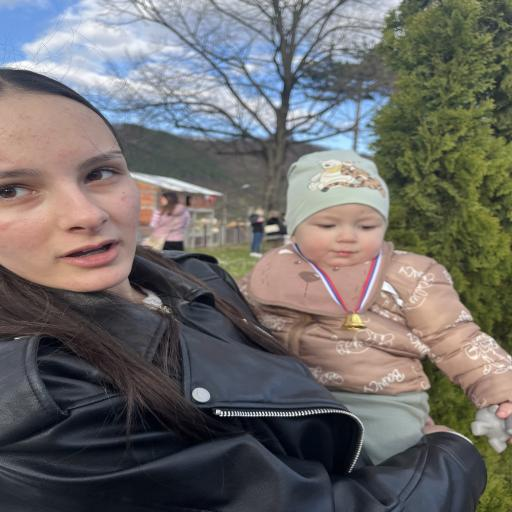marija: (0, 69, 142, 287)
